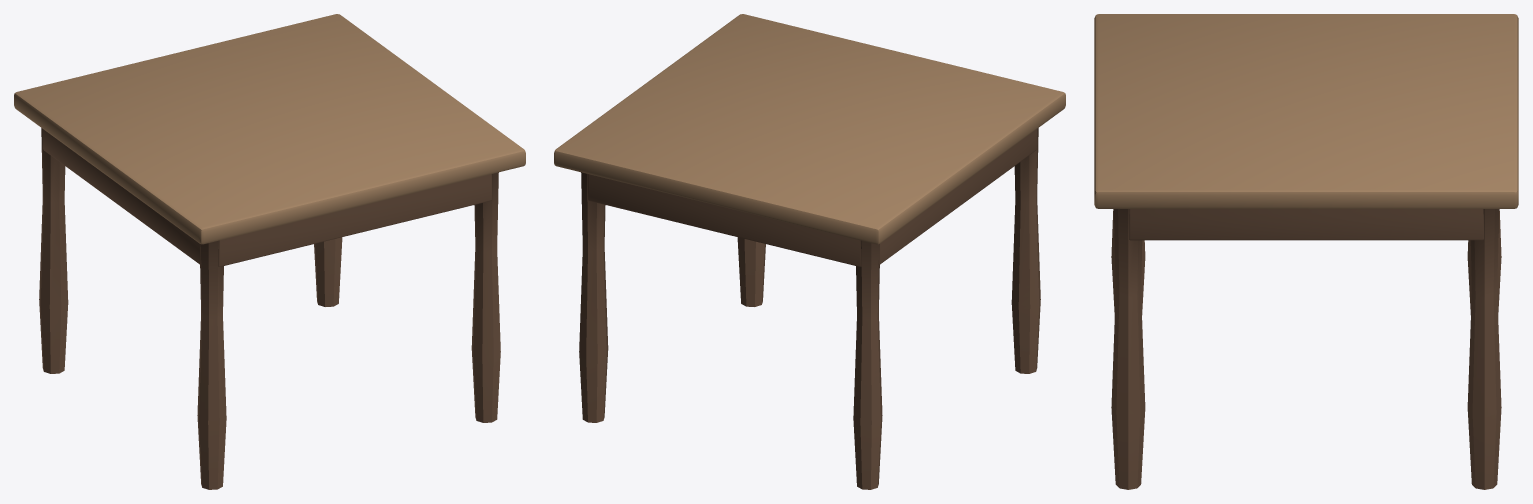
Rendered from table_sq.glb.
The picture shows the model from 3 angles, left to right: view 1: azimuth 30°, elevation 25°; view 2: azimuth 150°, elevation 25°; view 3: azimuth 270°, elevation 25°; orthographic projection. The views are drawn at different scales.
Visible parts, largest first — view 1: boat_oak, boat_darkwood; view 2: boat_oak, boat_darkwood; view 3: boat_oak, boat_darkwood.
Boxes of the visible parts, left/top/right/bottom form: boat_oak: left=14, top=14, right=525, bottom=244; boat_darkwood: left=39, top=128, right=500, bottom=489; boat_oak: left=554, top=14, right=1065, bottom=244; boat_darkwood: left=579, top=128, right=1040, bottom=489; boat_oak: left=1094, top=14, right=1518, bottom=208; boat_darkwood: left=1111, top=209, right=1501, bottom=489.
Size of the model in its own units: 1 by 0.8 by 1.
